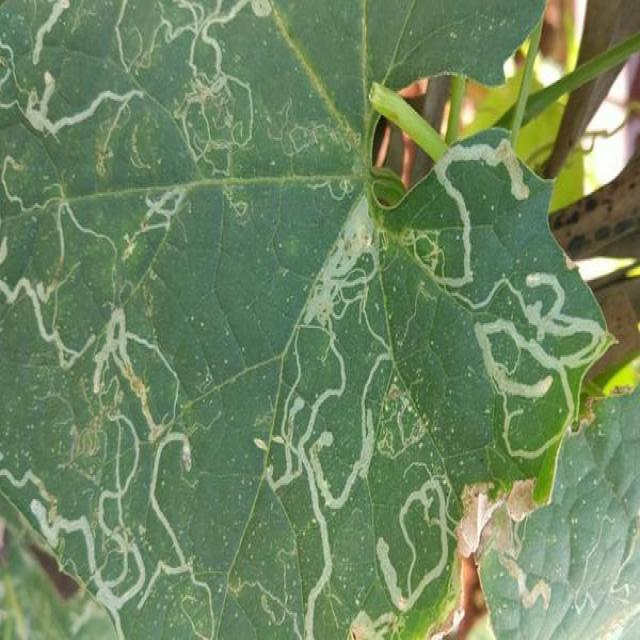Tomato target spot leaf: (3, 3, 605, 640)
